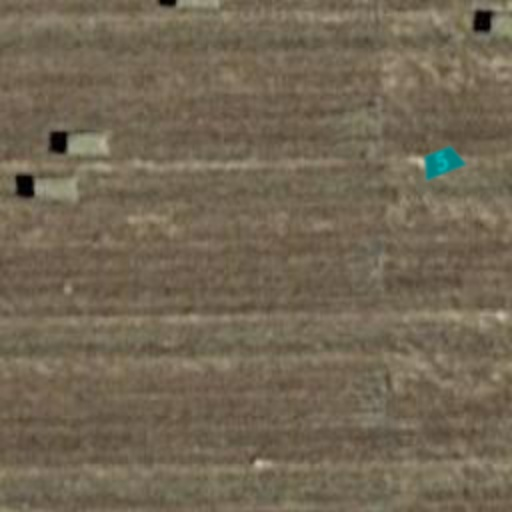trapezoid: (412, 132, 472, 192)
